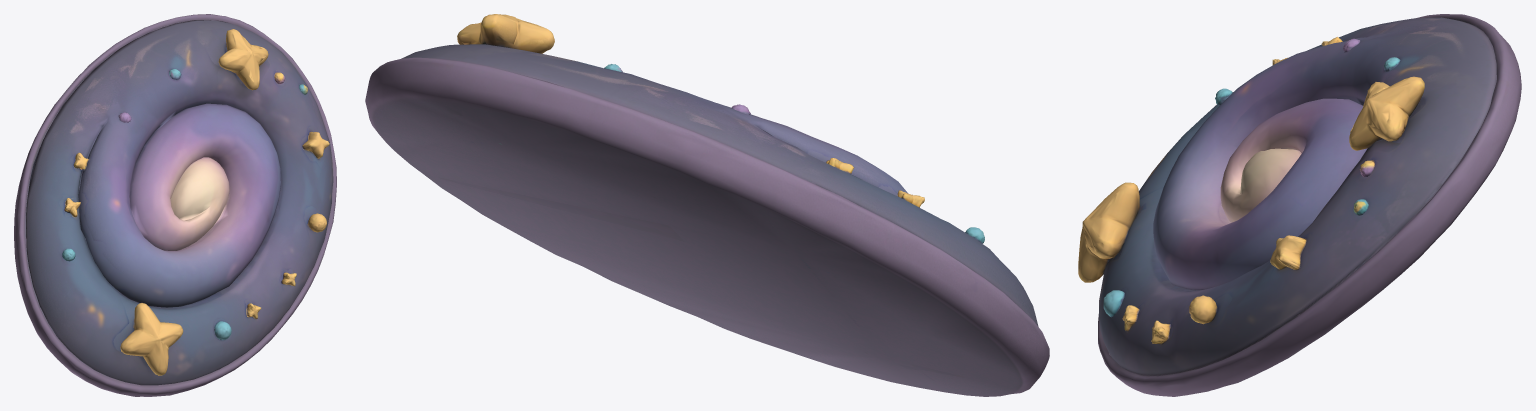
File: mem_ac_galaxy.fbx
3 views of the same model, side by side, from view 1: azimuth 30°, elevation 25°; view 2: azimuth 150°, elevation 25°; view 3: azimuth 270°, elevation 25° (orthographic). The views are drawn at different scales.
Visible parts, largest first — view 1: tripo_node_e6030314; view 2: tripo_node_e6030314; view 3: tripo_node_e6030314.
Boxes of the visible parts, x1=… form: tripo_node_e6030314: x1=14, y1=14, x2=336, y2=396; tripo_node_e6030314: x1=365, y1=14, x2=1049, y2=396; tripo_node_e6030314: x1=1078, y1=14, x2=1521, y2=396.
Bounding box in the file's own units: 0.998 × 0.7168 × 0.748.
